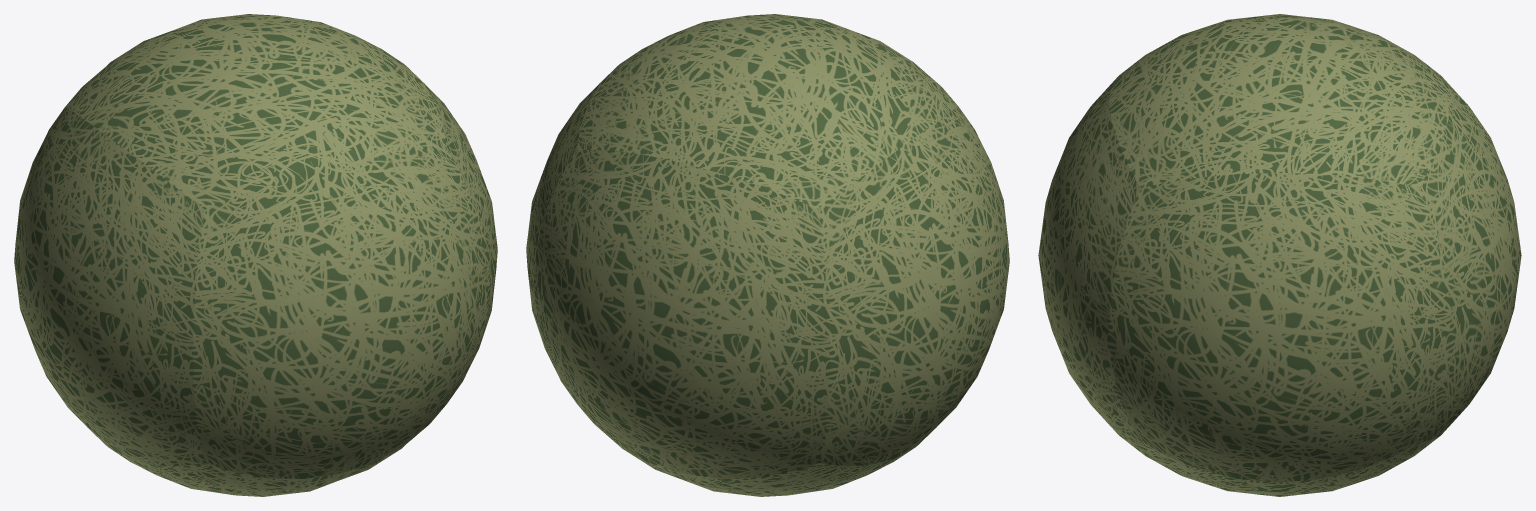
File: Cantelope.FBX
3 renders of one model, left to right at view 1: azimuth 30°, elevation 25°; view 2: azimuth 150°, elevation 25°; view 3: azimuth 270°, elevation 25°, orthographic.
Visible parts, largest first — view 1: Box001; view 2: Box001; view 3: Box001.
Part boxes in pixels (x1,y1,x2,y2): Box001: (14, 14, 497, 496); Box001: (526, 14, 1009, 496); Box001: (1038, 14, 1521, 496).
Size of the model in its own units: 7.94 by 7.94 by 7.94.
